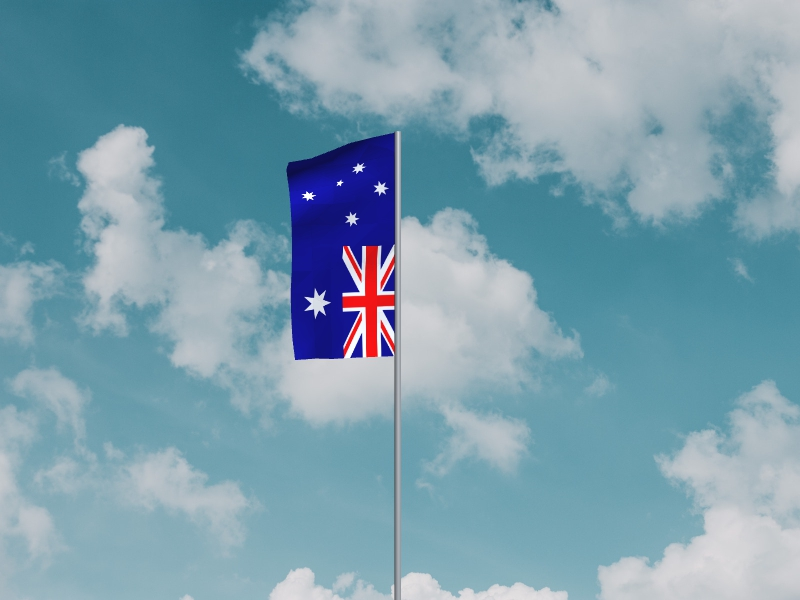au: (286, 133, 396, 362)
